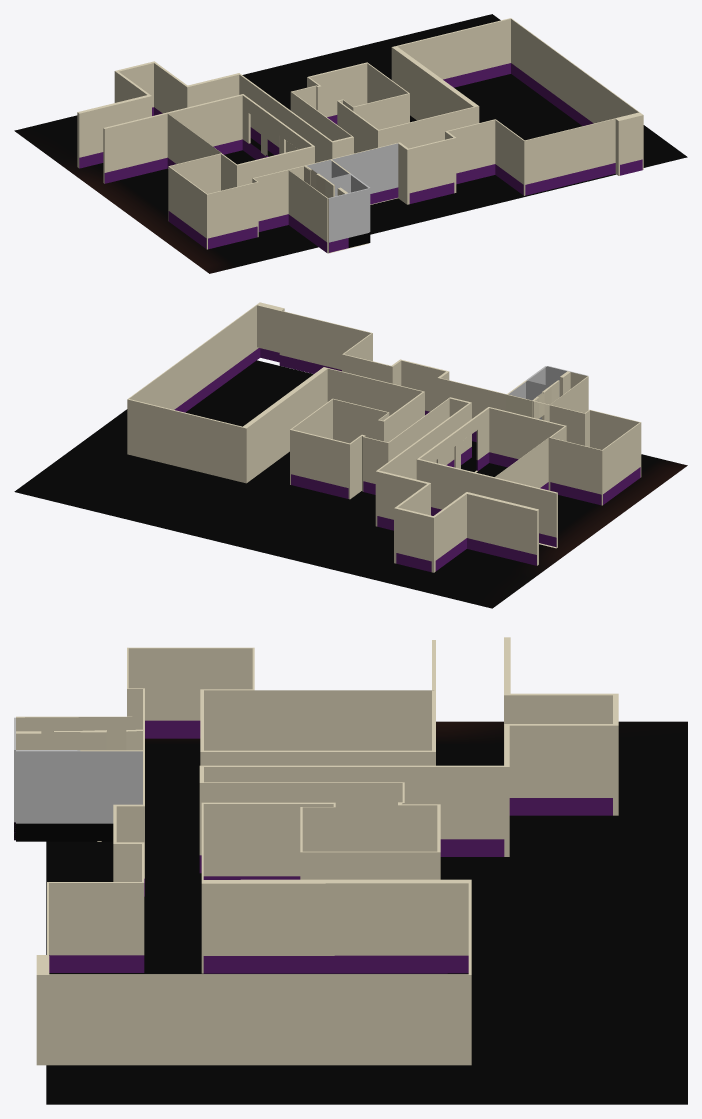
The model's file is lvlmap2.2.fbx.
3 views of the same model, one above another, from view 1: azimuth 30°, elevation 25°; view 2: azimuth 150°, elevation 25°; view 3: azimuth 270°, elevation 25° (orthographic). The views are drawn at different scales.
Parts seen in each view (by area): view 1: Cube, Plane; view 2: Cube, Plane; view 3: Cube, Plane.
Part boxes in pixels (<box>): Cube: <box>77,18,643,253</box>; Plane: <box>14,14,687,273</box>; Cube: <box>127,302,641,572</box>; Plane: <box>14,360,687,608</box>; Cube: <box>14,637,618,1065</box>; Plane: <box>46,721,687,1104</box>.
Size of the model in its own units: 2134 by 239 by 1587.
